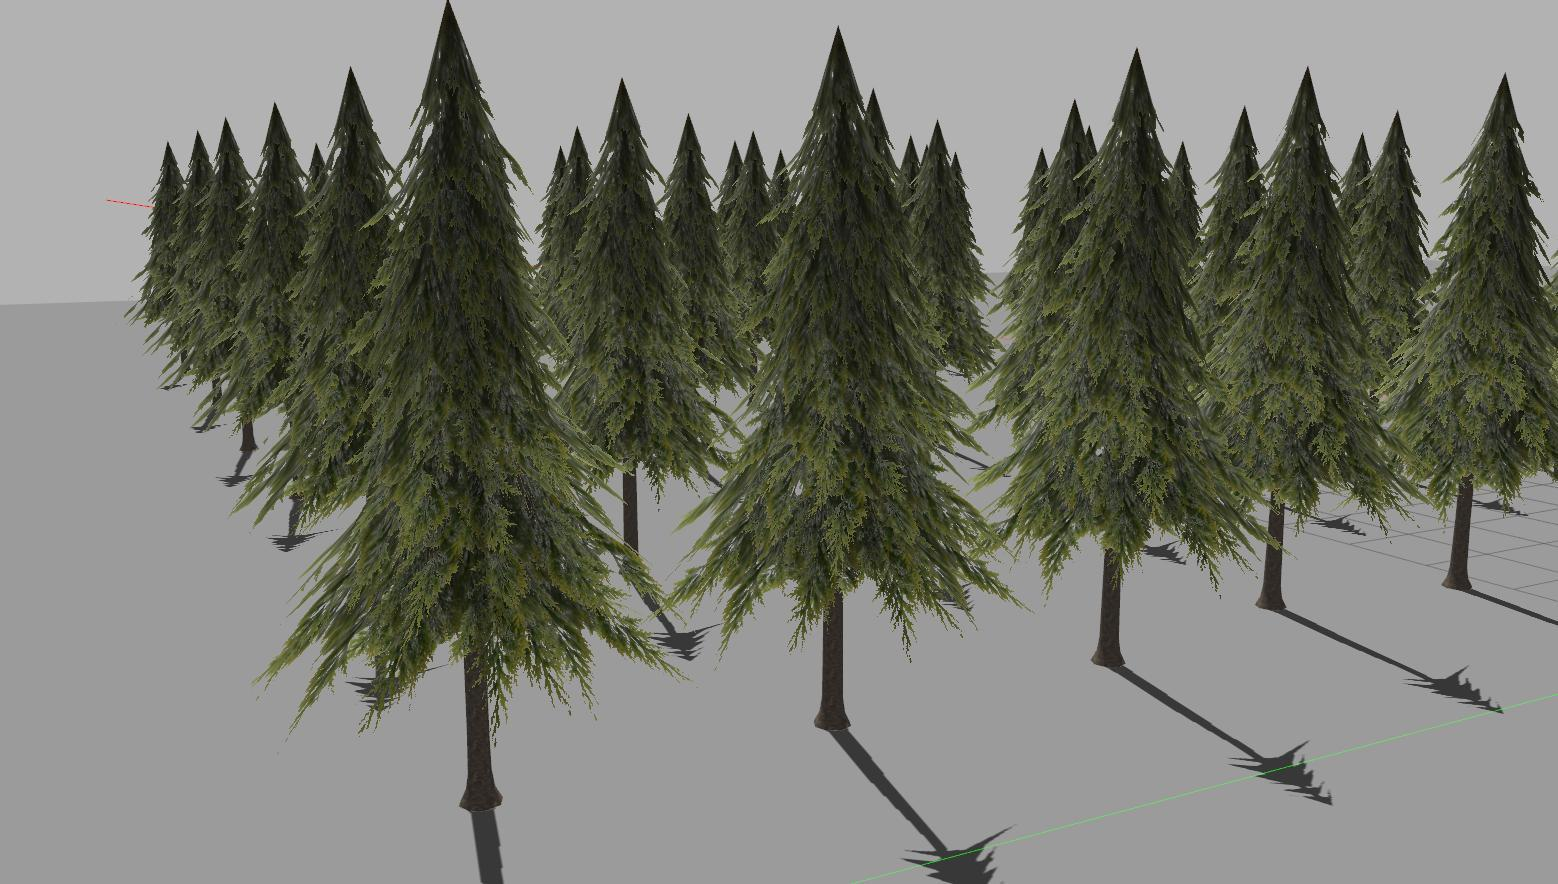tree_gazebo: (262, 6, 663, 812), (678, 33, 1007, 730), (983, 55, 1259, 668), (986, 58, 1259, 667), (1208, 73, 1409, 610), (1381, 79, 1558, 592), (563, 82, 728, 544), (241, 70, 393, 520), (225, 107, 307, 423), (663, 119, 758, 393), (906, 125, 998, 376), (185, 122, 249, 425), (718, 134, 776, 382), (127, 143, 183, 325), (162, 134, 213, 325), (167, 340, 180, 369)
